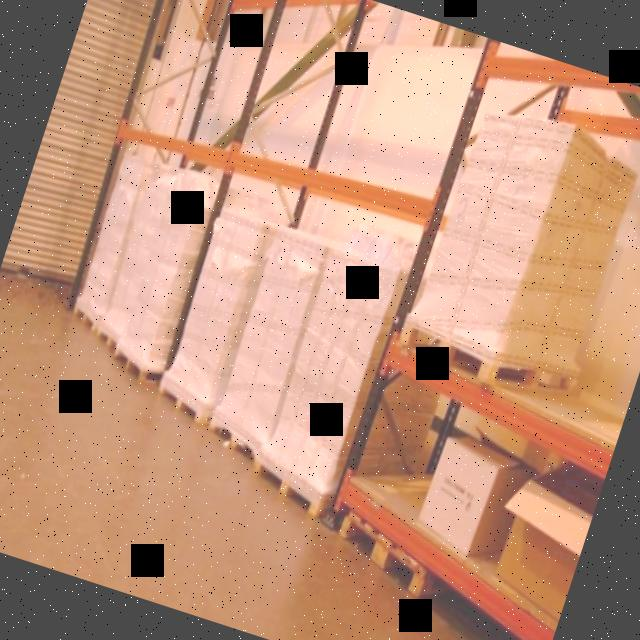box: (396, 117, 638, 395), (268, 245, 411, 480), (486, 471, 600, 611), (414, 433, 528, 554)
